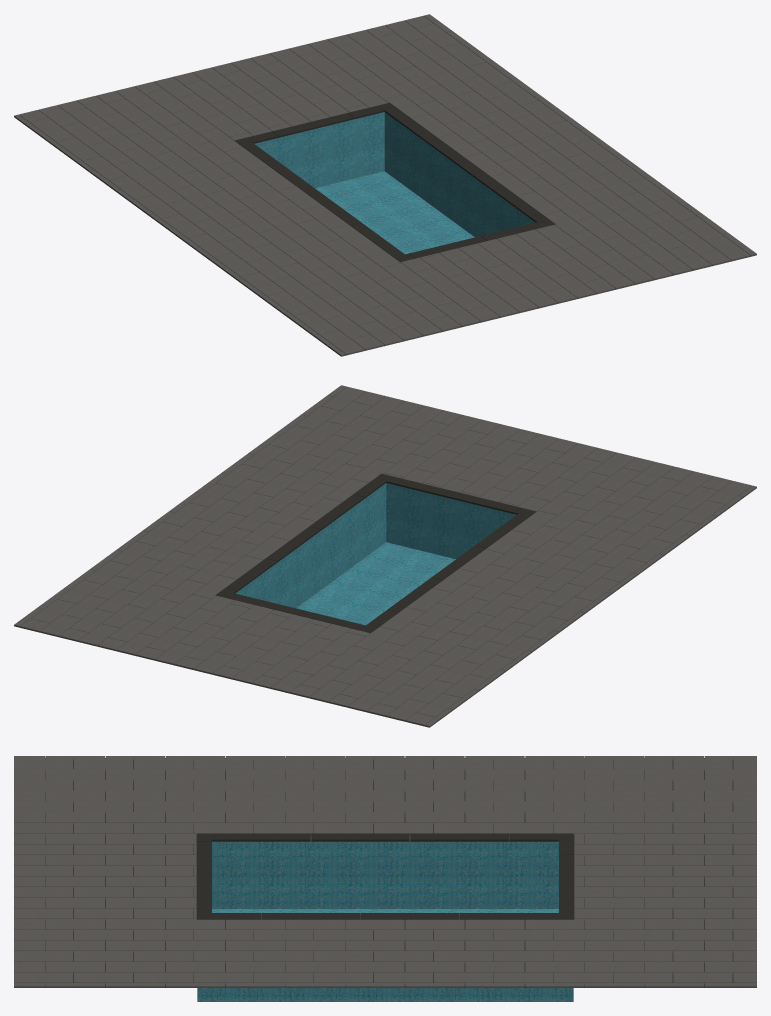
Rendered from swimming_pool.glb.
3 renders of one model, top to bottom at view 1: azimuth 30°, elevation 25°; view 2: azimuth 150°, elevation 25°; view 3: azimuth 270°, elevation 25°, orthographic. The views are drawn at different scales.
Visible parts, largest first — view 1: Stone TIles, Pool, PoolEdges; view 2: Stone TIles, Pool, PoolEdges; view 3: Stone TIles, Pool, PoolEdges, Floor_Underground.
Boxes of the visible parts, x1=… form: Stone TIles: x1=14, y1=14, x2=756, y2=356; Pool: x1=254, y1=112, x2=535, y2=254; PoolEdges: x1=235, y1=103, x2=554, y2=262; Stone TIles: x1=14, y1=385, x2=756, y2=727; Pool: x1=235, y1=483, x2=516, y2=625; PoolEdges: x1=216, y1=474, x2=535, y2=633; Stone TIles: x1=14, y1=756, x2=756, y2=987; Pool: x1=197, y1=835, x2=573, y2=1001; PoolEdges: x1=197, y1=833, x2=573, y2=920; Floor_Underground: x1=45, y1=758, x2=733, y2=987.
Size of what is drawn, in the model's own units: 11 by 1.84 by 15.
Materials: 4 (3 with a texture image).
